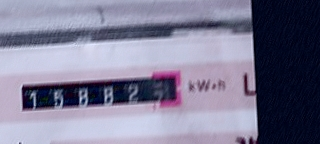1: (28, 89, 38, 108)
2: (127, 82, 140, 102)
5: (50, 88, 65, 107)
7: (151, 88, 164, 100)
8: (101, 83, 115, 105), (77, 85, 90, 106)
screen: (16, 69, 187, 117)
